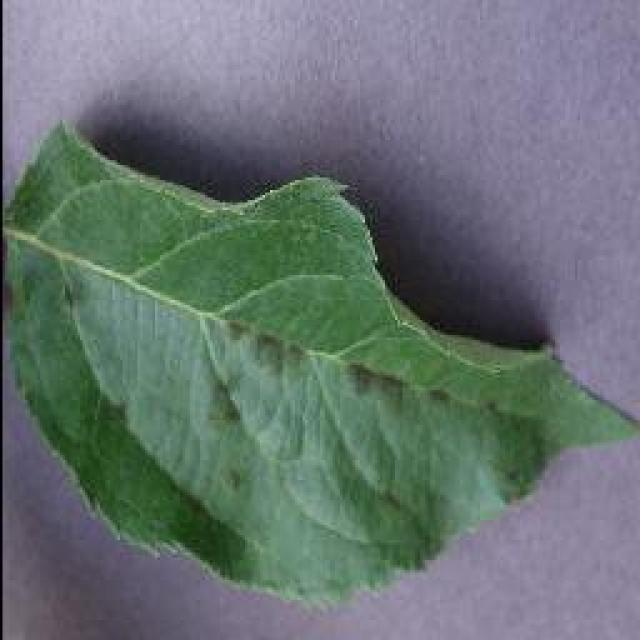apple scab disease: (2, 115, 638, 610)
